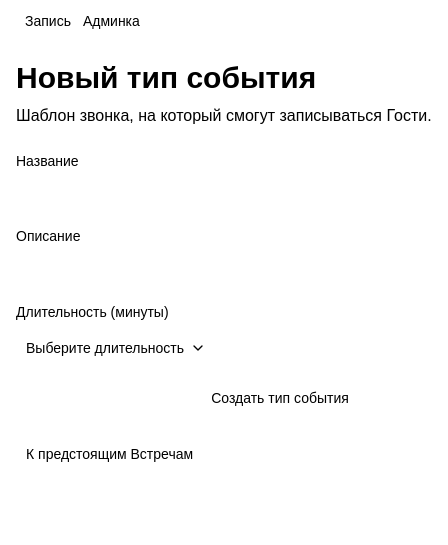
Test: EventTypeFormPage › длительность — список вариантов, а не свободный ввод
Press the mouse on the dropdown labelled "Выберите длительность" at (115, 348), box [16, 330, 214, 366]
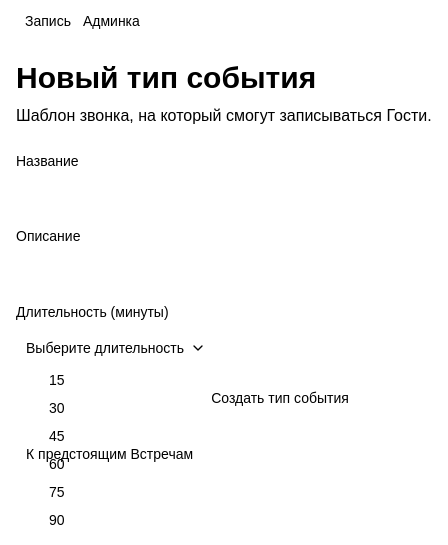
Expected: the options read "15", "30", "45", "60", "75", "90", in this order, [49, 372, 65, 388]; [49, 400, 65, 416]; [49, 428, 65, 444]; [49, 456, 65, 472]; [49, 484, 65, 500]; [49, 512, 65, 528]
